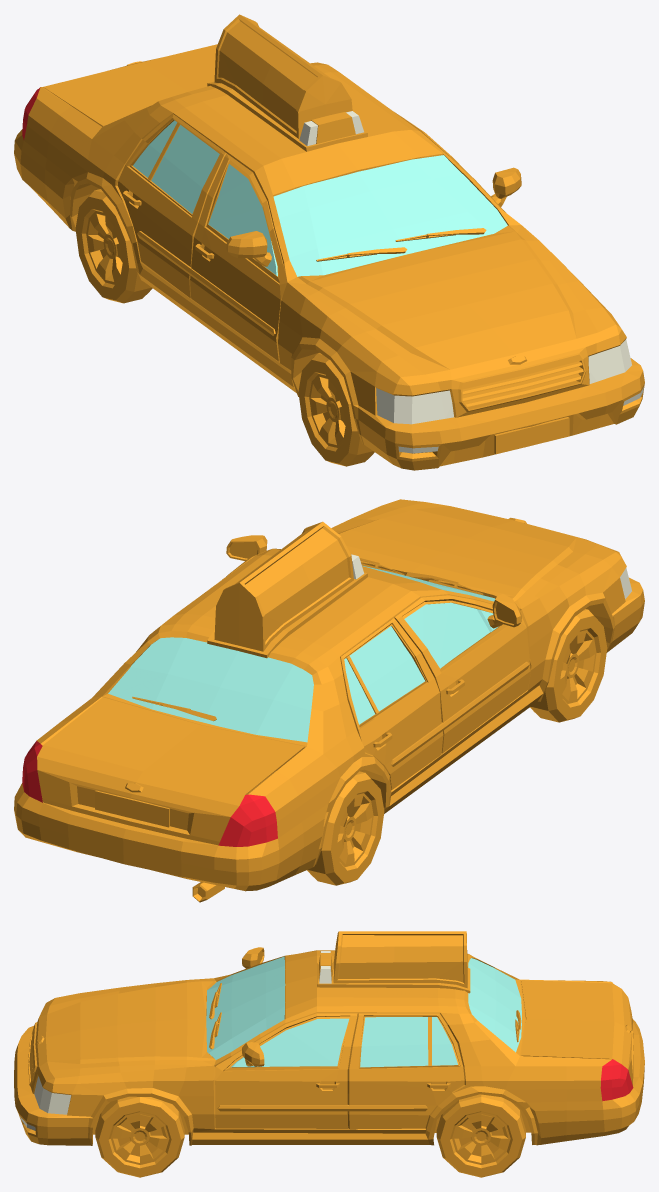
File: SM_Car_Taxi_Modern.fbx
3 views of the same model, one above another, from view 1: azimuth 30°, elevation 25°; view 2: azimuth 150°, elevation 25°; view 3: azimuth 270°, elevation 25° (orthographic). The views are drawn at different scales.
Parts seen in each view (by area): view 1: car-taxi-modern-base, car-taxi-modern-door-rfr, car-taxi-modern-door-rba, car-taxi-modern-trunk, car-taxi-modern-wheel-rba, car-taxi-modern-wheel-rfr, car-taxi-modern-door-lfr; view 2: car-taxi-modern-base, car-taxi-modern-trunk, car-taxi-modern-door-rfr, car-taxi-modern-door-rba, car-taxi-modern-wheel-rba, car-taxi-modern-wheel-rfr, car-taxi-modern-door-lfr; view 3: car-taxi-modern-base, car-taxi-modern-door-lfr, car-taxi-modern-door-lba, car-taxi-modern-trunk, car-taxi-modern-wheel-lba, car-taxi-modern-wheel-lfr, car-taxi-modern-door-rfr.
Boxes of the visible parts, x1=… form: car-taxi-modern-base: x1=14, y1=14, x2=644, y2=470; car-taxi-modern-door-rfr: x1=188, y1=153, x2=287, y2=361; car-taxi-modern-door-rba: x1=117, y1=114, x2=226, y2=298; car-taxi-modern-trunk: x1=43, y1=44, x2=217, y2=126; car-taxi-modern-wheel-rba: x1=75, y1=189, x2=152, y2=303; car-taxi-modern-wheel-rfr: x1=298, y1=353, x2=374, y2=466; car-taxi-modern-door-lfr: x1=395, y1=112, x2=521, y2=212; car-taxi-modern-base: x1=14, y1=499, x2=644, y2=902; car-taxi-modern-trunk: x1=37, y1=697, x2=304, y2=845; car-taxi-modern-door-rfr: x1=394, y1=594, x2=531, y2=753; car-taxi-modern-door-rba: x1=340, y1=618, x2=445, y2=789; car-taxi-modern-wheel-rba: x1=307, y1=771, x2=384, y2=885; car-taxi-modern-wheel-rfr: x1=530, y1=609, x2=607, y2=722; car-taxi-modern-door-lfr: x1=226, y1=535, x2=267, y2=576; car-taxi-modern-base: x1=14, y1=931, x2=644, y2=1145; car-taxi-modern-door-lfr: x1=215, y1=1013, x2=357, y2=1128; car-taxi-modern-door-lba: x1=347, y1=1013, x2=464, y2=1129; car-taxi-modern-trunk: x1=521, y1=980, x2=633, y2=1085; car-taxi-modern-wheel-lba: x1=436, y1=1094, x2=525, y2=1177; car-taxi-modern-wheel-lfr: x1=95, y1=1096, x2=184, y2=1177; car-taxi-modern-door-rfr: x1=242, y1=947, x2=312, y2=968.
Bounding box in the file's own units: 2.26 × 1.93 × 5.49.
